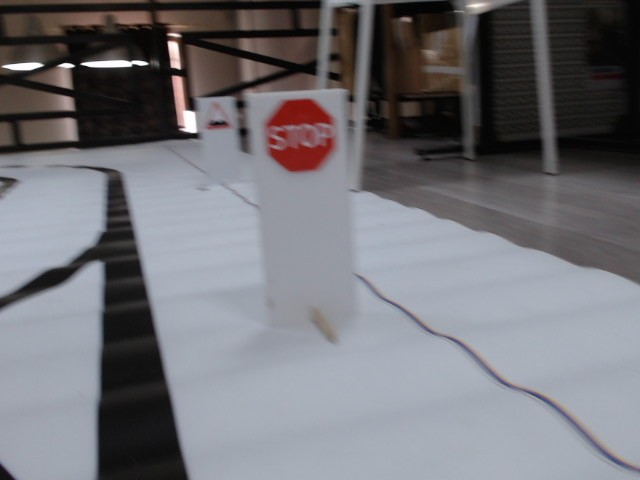Nerov: (203, 101, 233, 133)
Stop: (267, 97, 337, 173)
